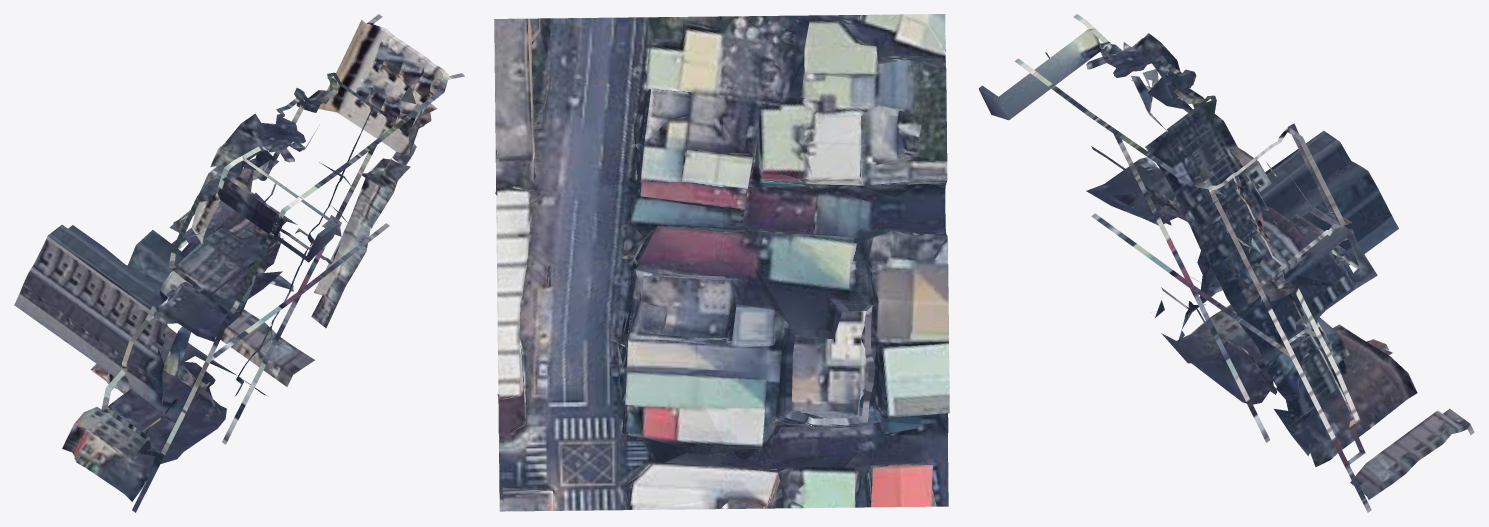
3 views of the same model, side by side, from view 1: azimuth 30°, elevation 25°; view 2: azimuth 150°, elevation 25°; view 3: azimuth 270°, elevation 25° (orthographic). The views are drawn at different scales.
Bounding box in the file's own units: 82.52 × 78.11 × 88.73.
2 materials, 2 textured.
